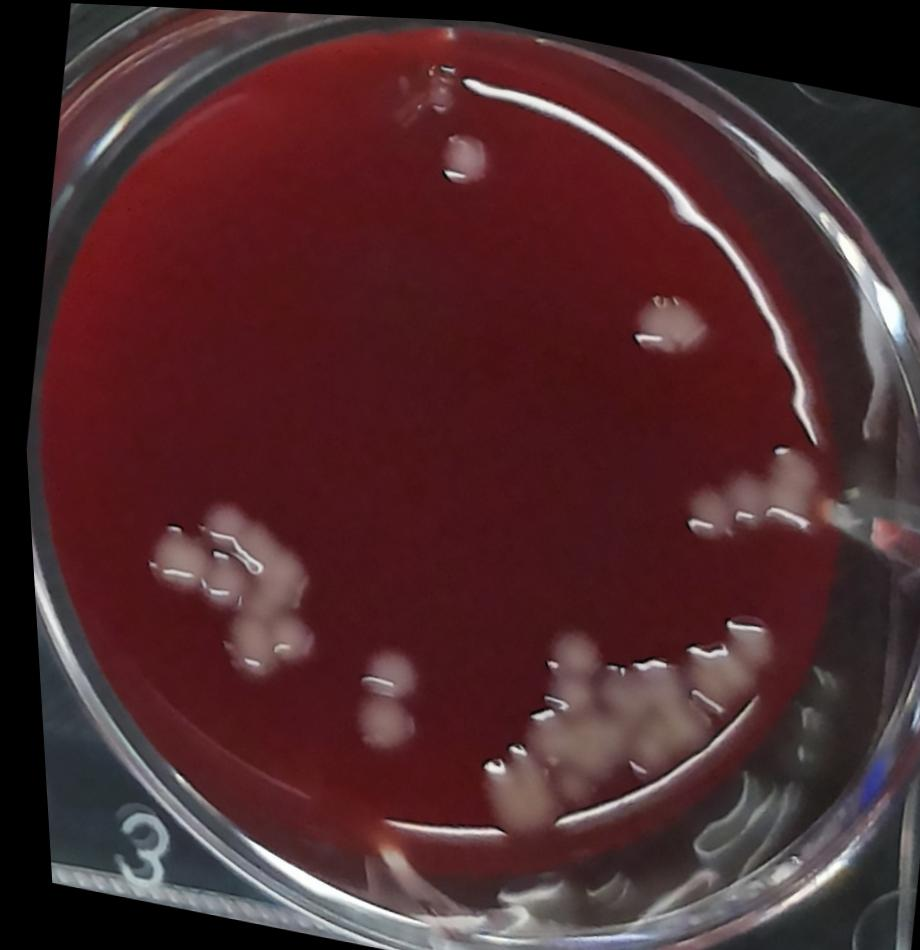vharveyi: (110, 464, 342, 694), (671, 412, 826, 564), (323, 626, 437, 764), (455, 716, 564, 838), (611, 269, 714, 376), (417, 109, 507, 203)
